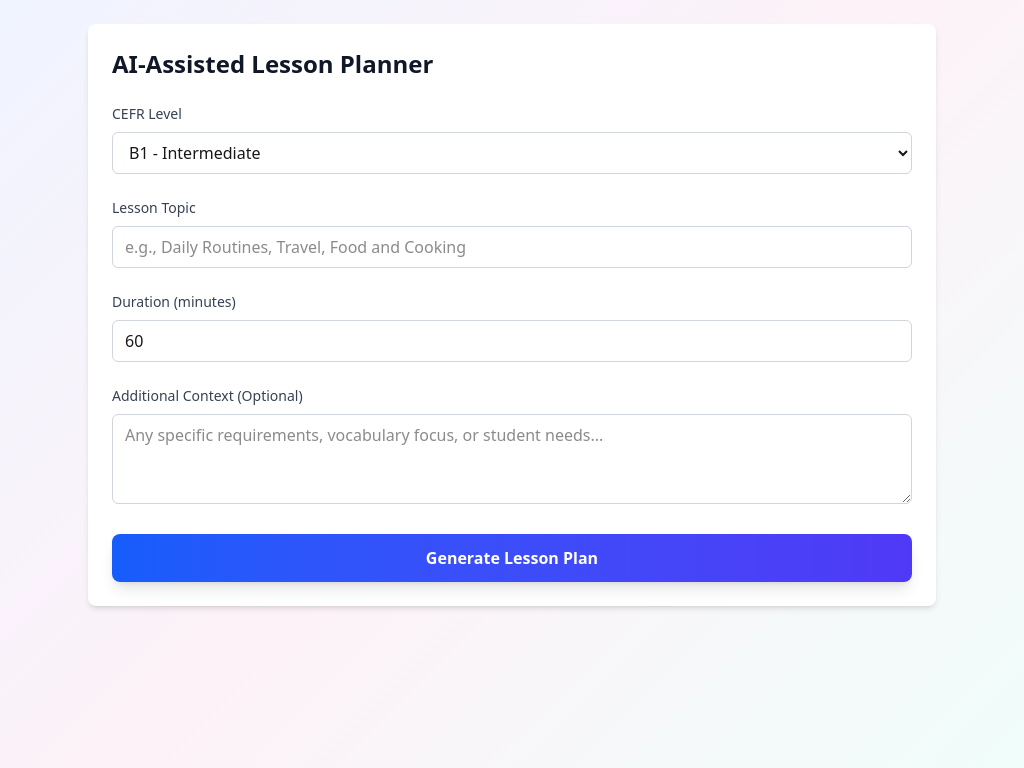
Test: LessonPlannerForm Component › should handle network errors gracefully
Type "Test" into the field labelled "Lesson Topic" at [512, 247], box [112, 226, 912, 268]
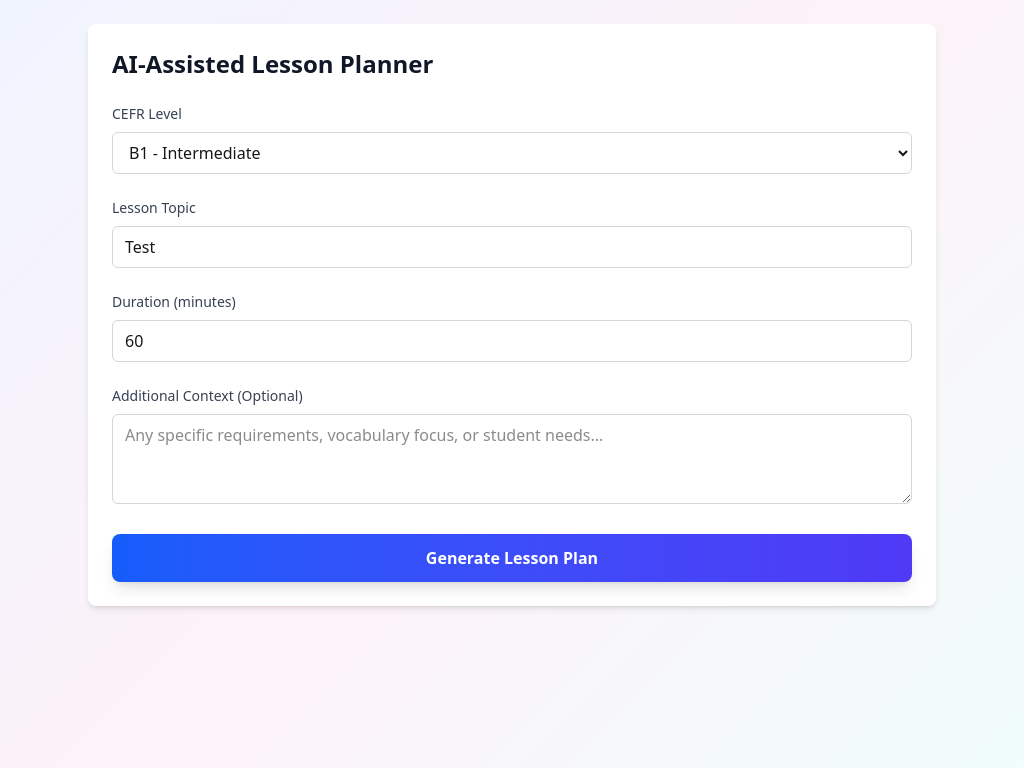
Click the button "Generate Lesson Plan" at [512, 558], box [112, 534, 912, 582]
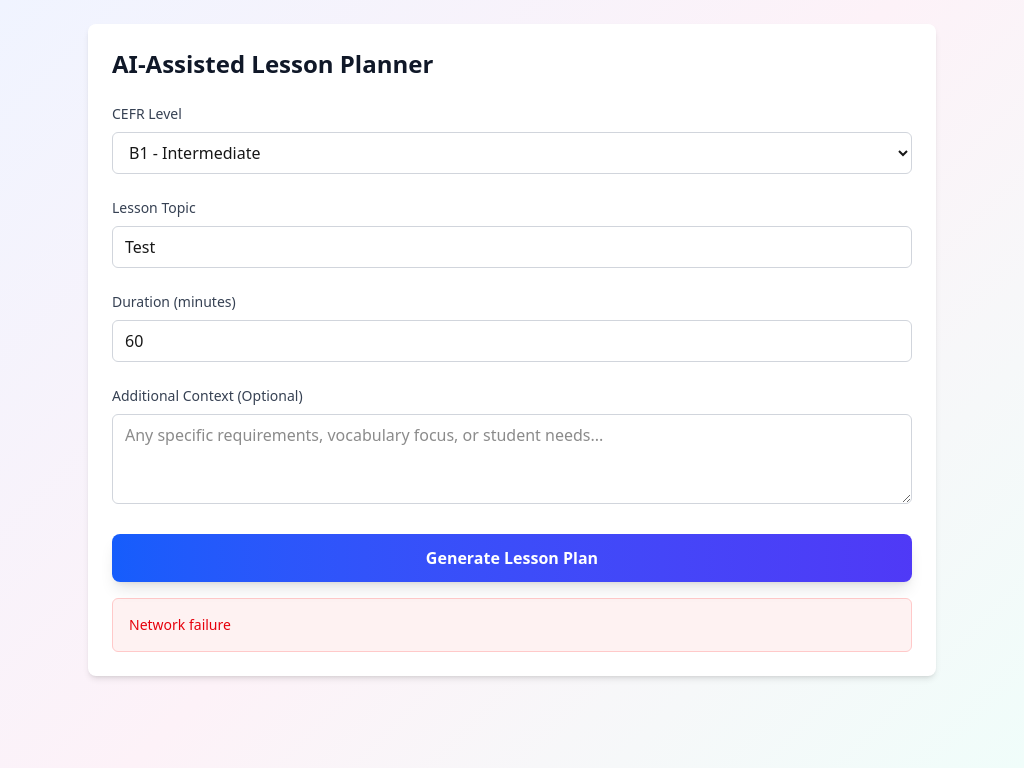
Expected: the text "Network failure" is shown, [129, 615, 231, 634]
